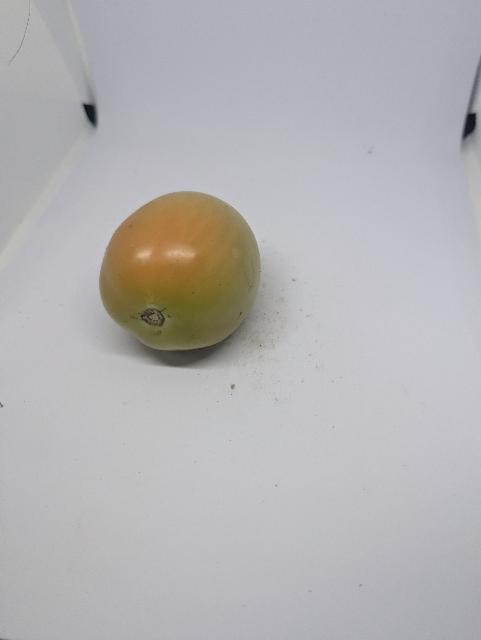breaker: (95, 188, 261, 357)
